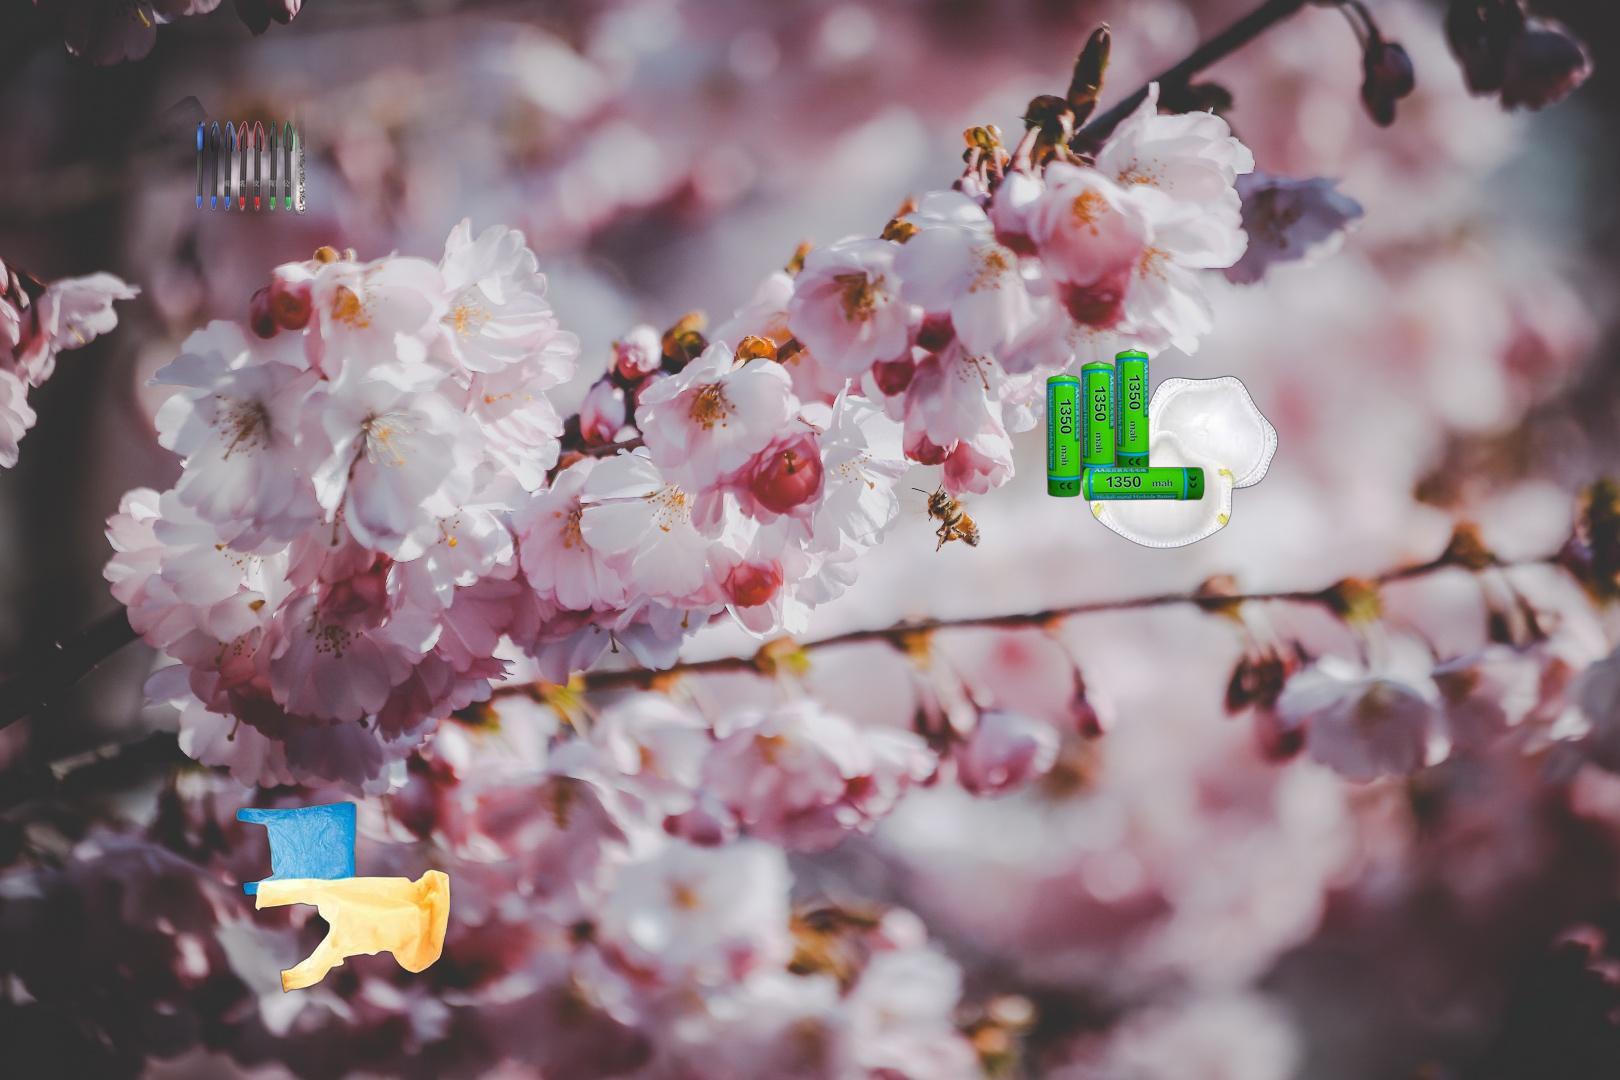battery: (1044, 347, 1207, 504)
penholder: (155, 96, 305, 216)
plastic-bag: (233, 799, 453, 996)
trash: (1087, 372, 1281, 551)
